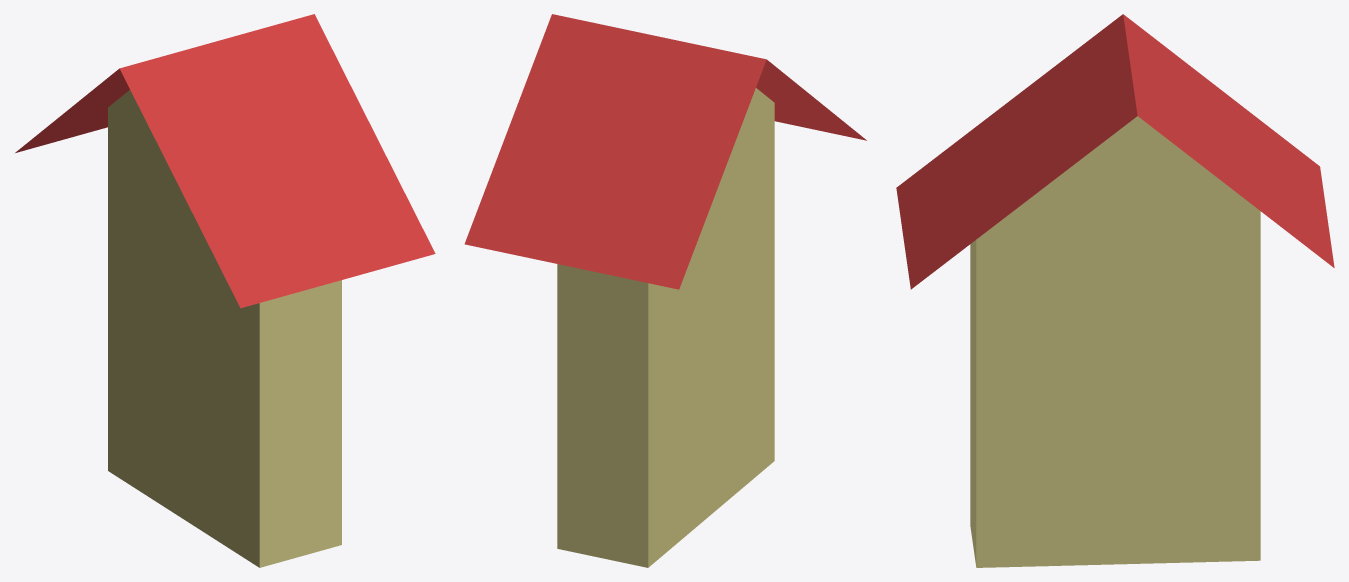
3 renders of one model, left to right at view 1: azimuth 30°, elevation 25°; view 2: azimuth 150°, elevation 25°; view 3: azimuth 270°, elevation 25°, orthographic. The views are drawn at different scales.
Bounding box in the file's own units: 7.64 × 12.55 × 15.09.
